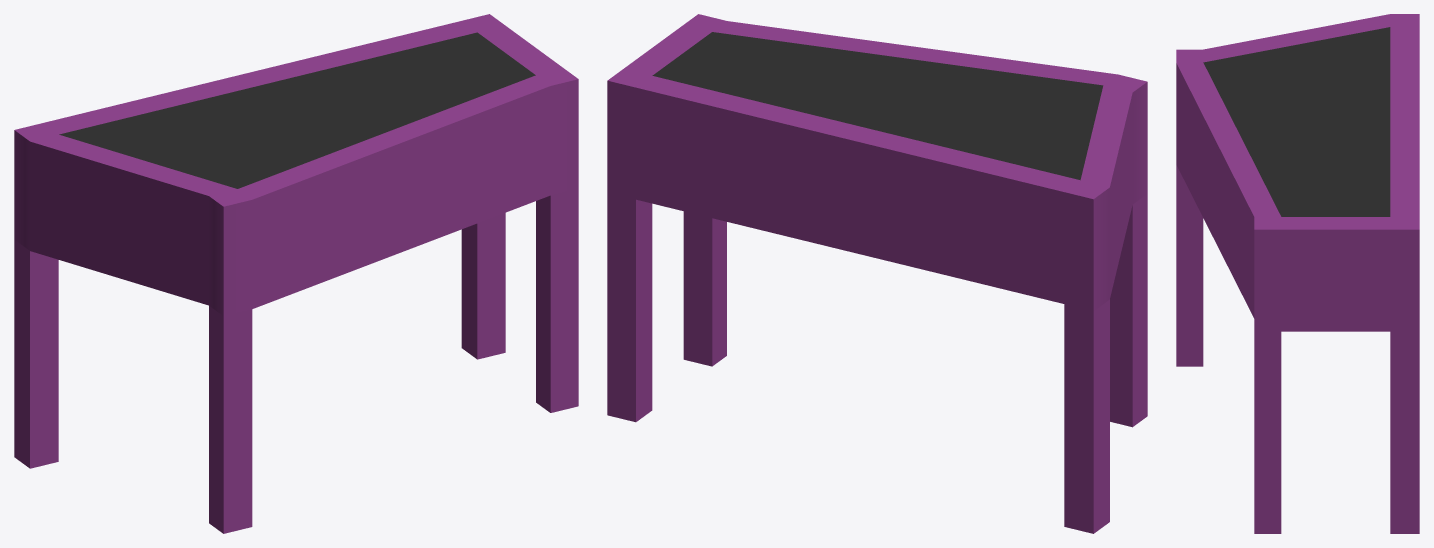
The model's file is banquette piano.FBX.
The picture shows the model from 3 angles, left to right: view 1: azimuth 30°, elevation 25°; view 2: azimuth 150°, elevation 25°; view 3: azimuth 270°, elevation 25°; orthographic projection. The views are drawn at different scales.
Parts seen in each view (by area): view 1: Object018; view 2: Object018; view 3: Object018.
Part boxes in pixels (x1,y1,x2,y2): Object018: (14, 14, 578, 533); Object018: (607, 14, 1147, 533); Object018: (1176, 14, 1419, 533).
Bounding box in the file's own units: 71.51 × 47.03 × 34.13.
